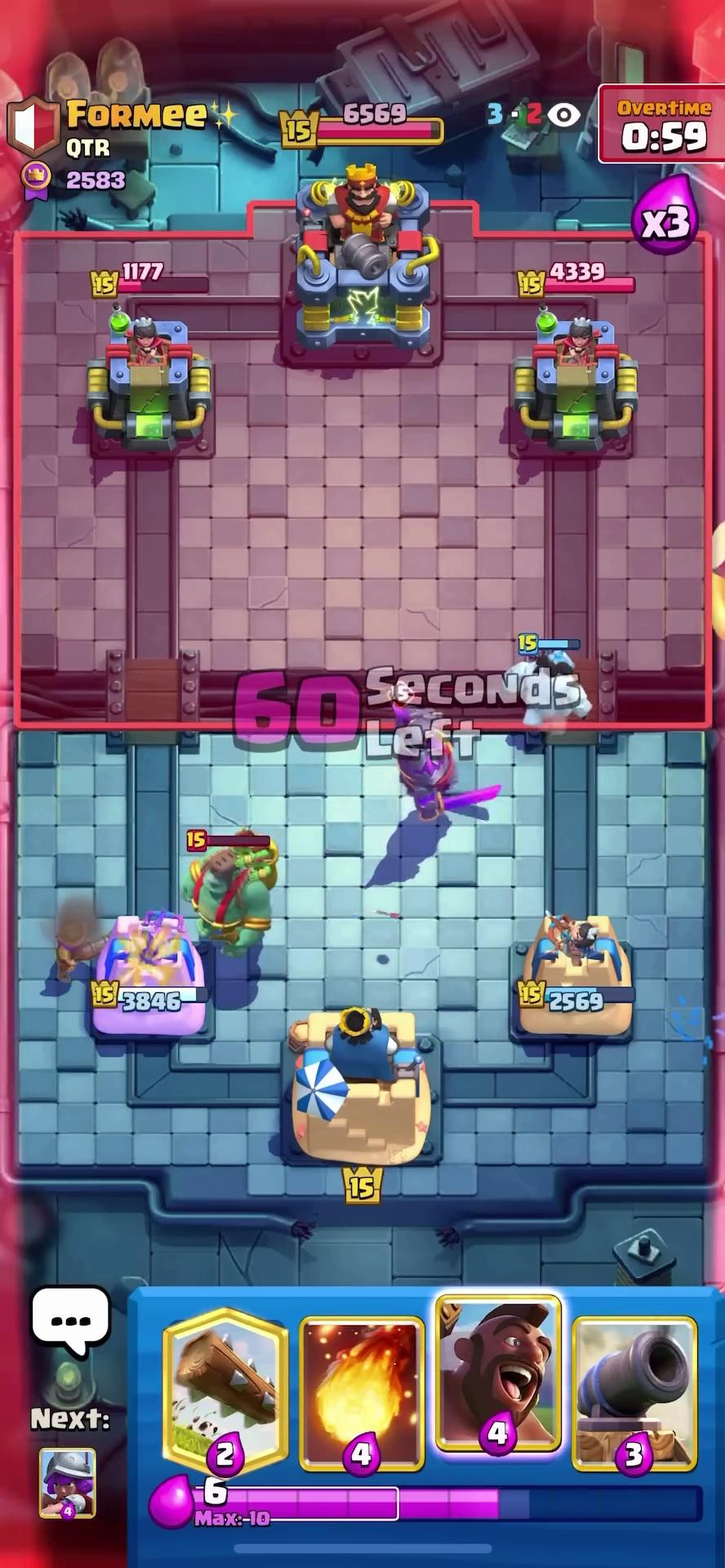ice_golem: (504, 625, 598, 749)
musketeer: (41, 906, 102, 988)
